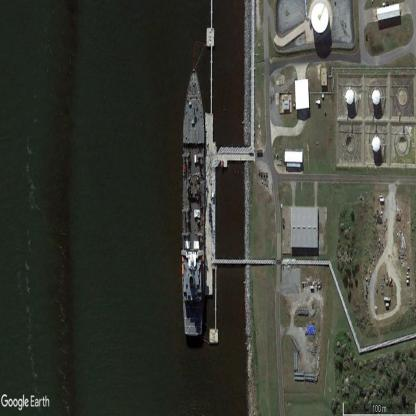ship: (182, 64, 205, 338)
